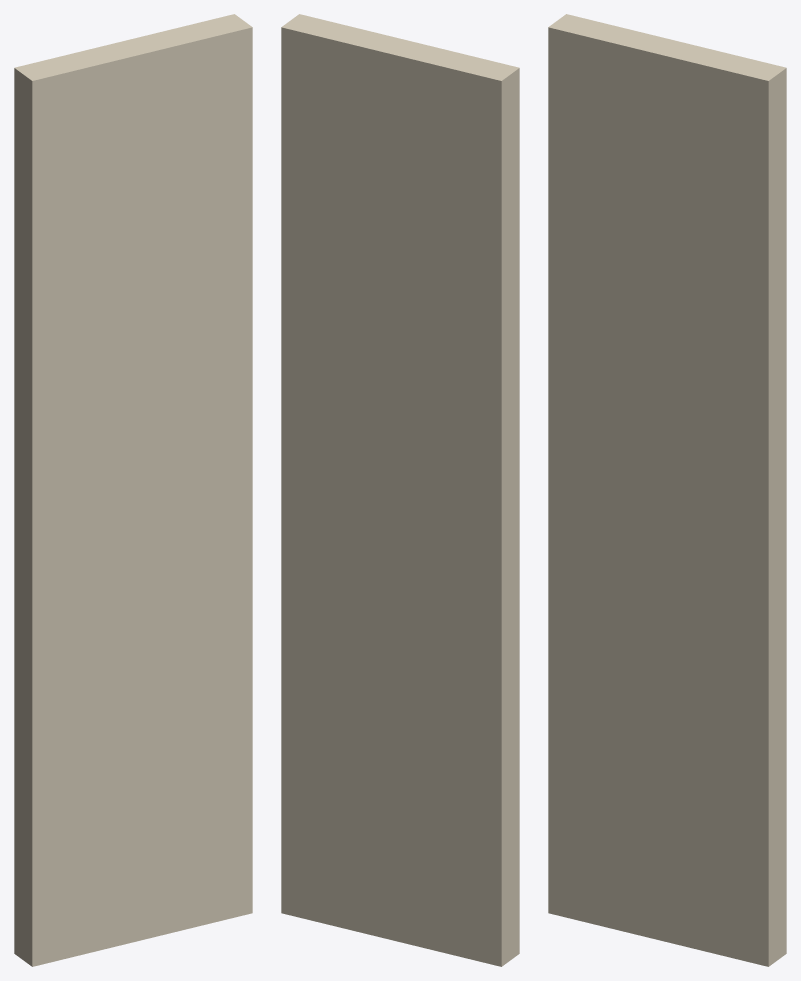
The picture shows the model from 3 angles, left to right: view 1: azimuth 30°, elevation 25°; view 2: azimuth 150°, elevation 25°; view 3: azimuth 330°, elevation 25°; orthographic projection.
Parts seen in each view (by area): view 1: A-FF-WALL-011; view 2: A-FF-WALL-011; view 3: A-FF-WALL-011.
Part boxes in pixels (x1,y1,x2,y2): A-FF-WALL-011: [14, 14, 252, 966]; A-FF-WALL-011: [281, 14, 519, 966]; A-FF-WALL-011: [548, 14, 786, 966].
Bounding box in the file's own units: 0.63 × 2.42 × 0.09.
